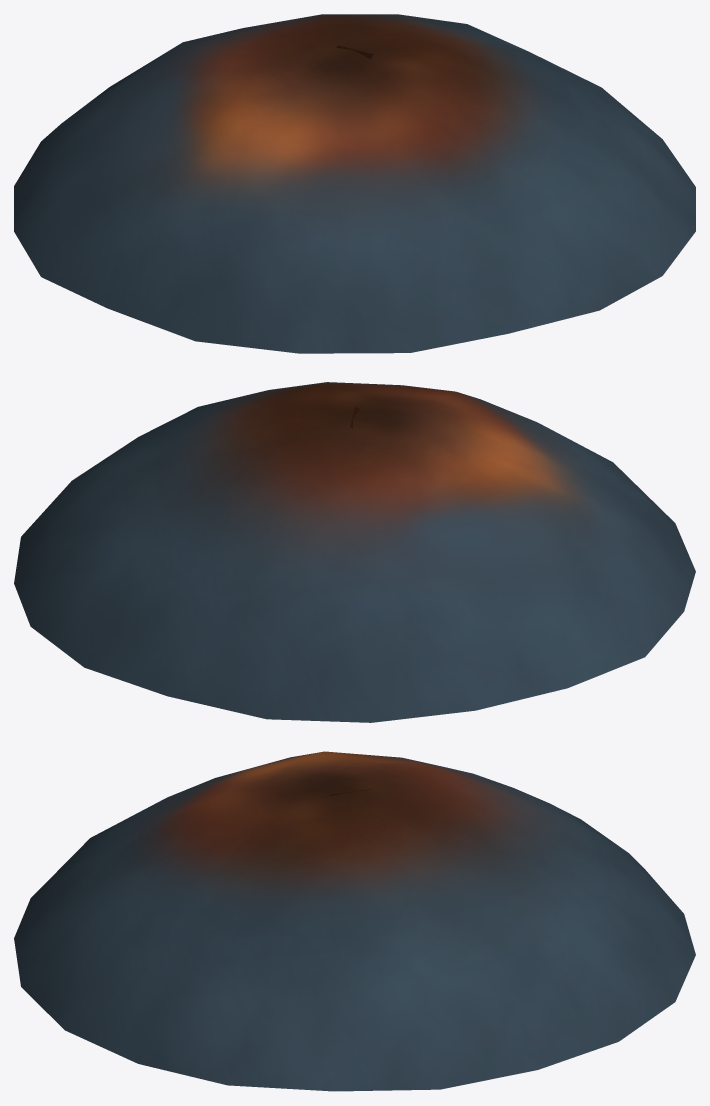
File: SkyBox_D.fbx
3 views of the same model, one above another, from view 1: azimuth 30°, elevation 25°; view 2: azimuth 150°, elevation 25°; view 3: azimuth 270°, elevation 25° (orthographic).
Parts seen in each view (by area): view 1: 9xp_icecrown_brokensky; view 2: 9xp_icecrown_brokensky; view 3: 9xp_icecrown_brokensky.
Part boxes in pixels (bbox=[...]): 9xp_icecrown_brokensky: bbox=[14, 14, 695, 353]; 9xp_icecrown_brokensky: bbox=[14, 382, 695, 722]; 9xp_icecrown_brokensky: bbox=[14, 751, 695, 1091].
Size of the model in its own units: 5660 by 1464 by 5581.
